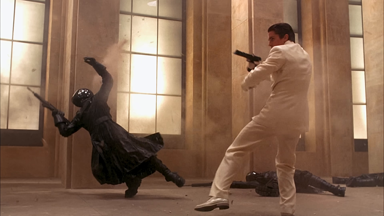firearm: (25, 83, 71, 125), (231, 46, 263, 73)
